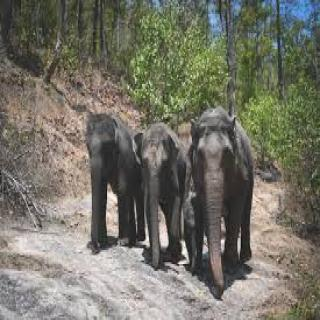Elephant: (191, 110, 262, 294), (134, 124, 191, 276), (85, 105, 141, 253)
